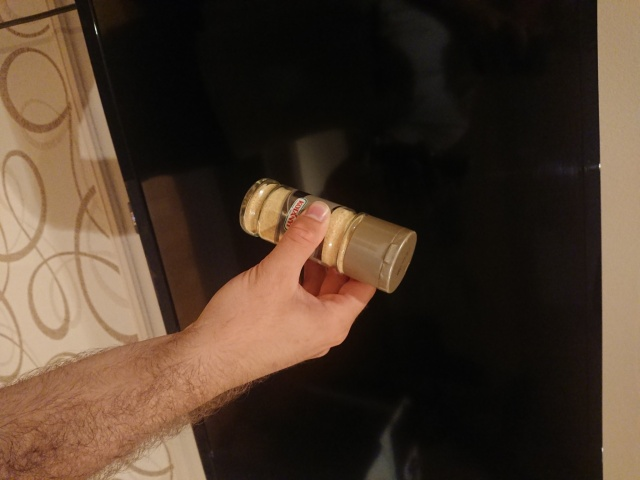Kotanyi Garlic Granules 70g: (237, 174, 420, 296)
